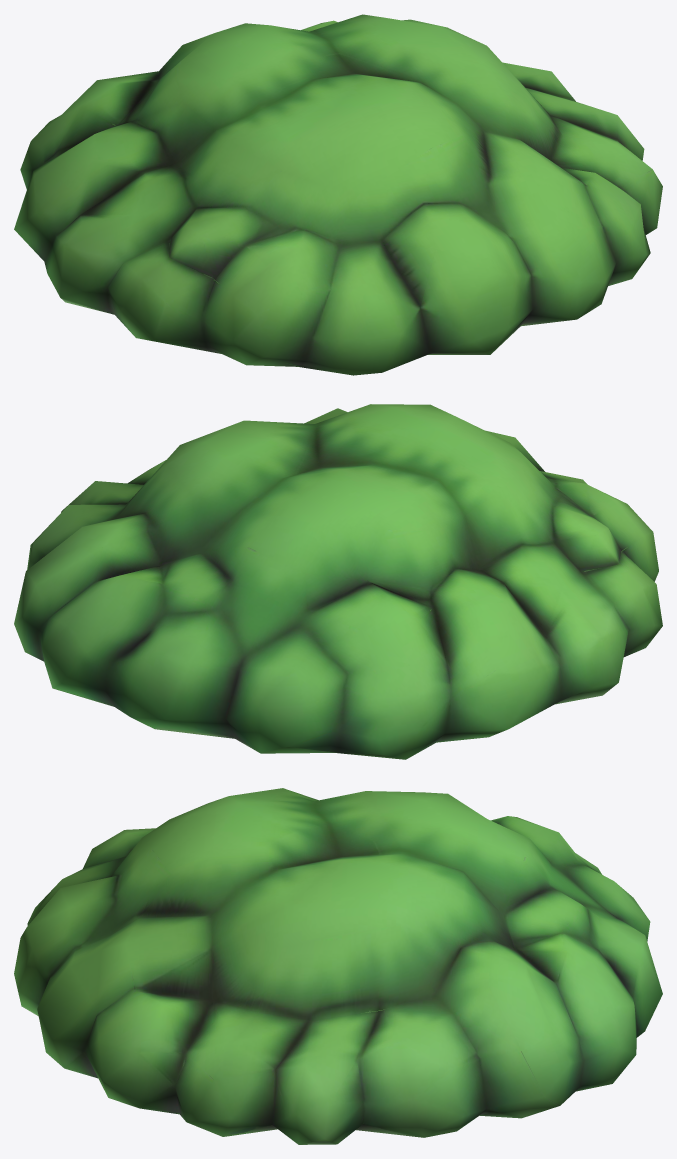
The model's file is moss-patch.glb.
3 renders of one model, top to bottom at view 1: azimuth 30°, elevation 25°; view 2: azimuth 150°, elevation 25°; view 3: azimuth 270°, elevation 25°, orthographic.
Size of the model in its own units: 2.03 by 0.6145 by 1.97.
Materials: 1 (1 with a texture image).
